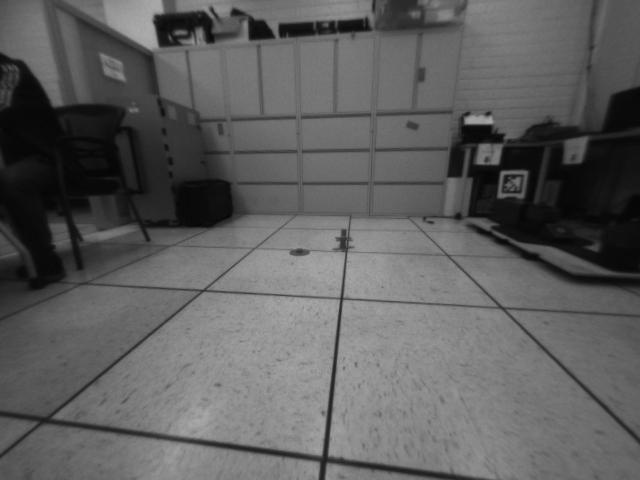X: (332, 240, 356, 253), (335, 230, 351, 240)
